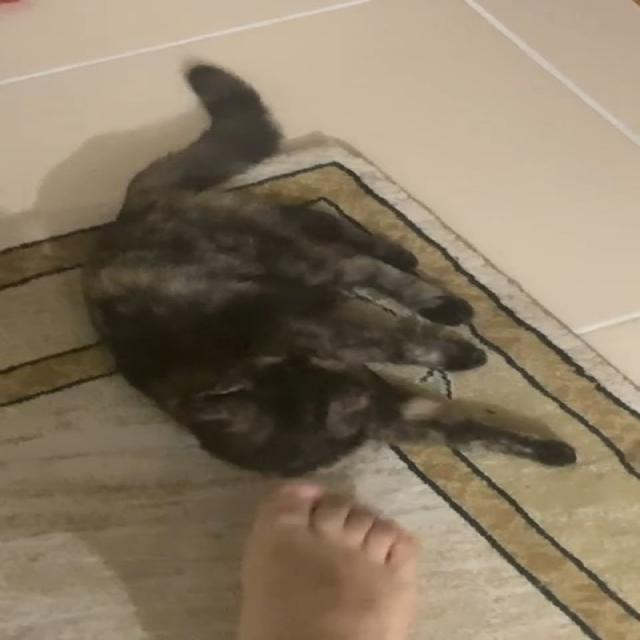authorized: (78, 59, 578, 479)
